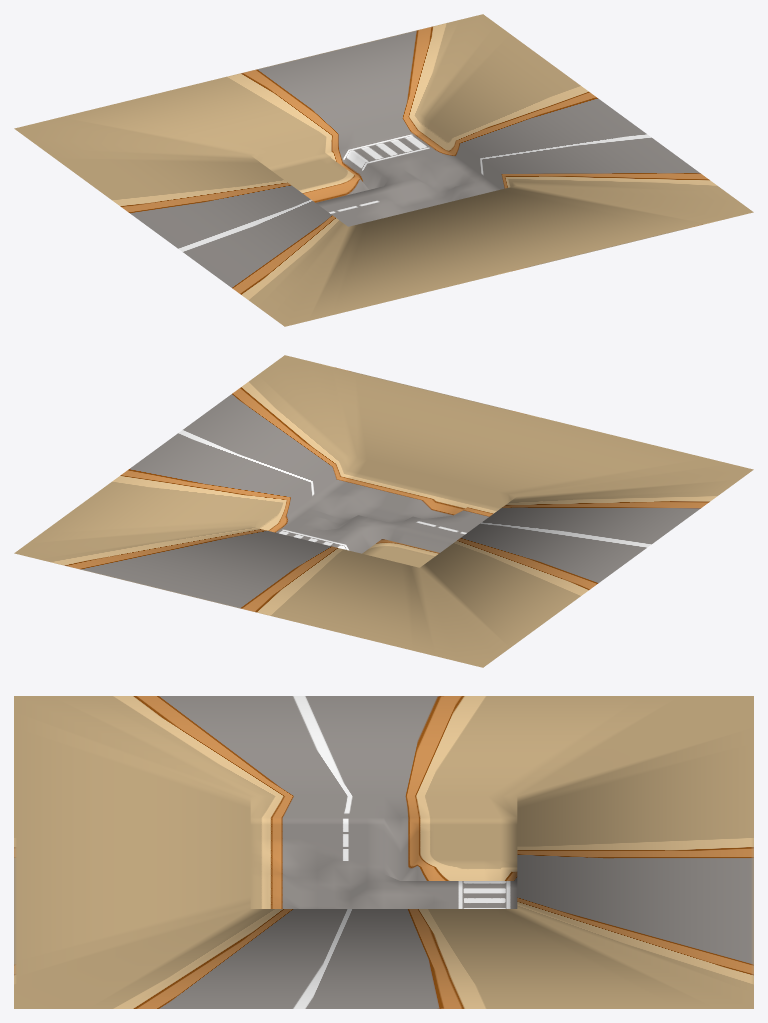
Rendered from floor.FBX.
3 renders of one model, top to bottom at view 1: azimuth 30°, elevation 25°; view 2: azimuth 150°, elevation 25°; view 3: azimuth 270°, elevation 25°, orthographic. The views are drawn at different scales.
Visible parts, largest first — view 1: floor; view 2: floor; view 3: floor.
Part boxes in pixels (x1=…): floor: x1=14, y1=14, x2=753, y2=326; floor: x1=14, y1=355, x2=753, y2=667; floor: x1=14, y1=696, x2=753, y2=1008.
Bounding box in the file's own units: 4968 × 4968 × 320.
1 material, 1 textured.
